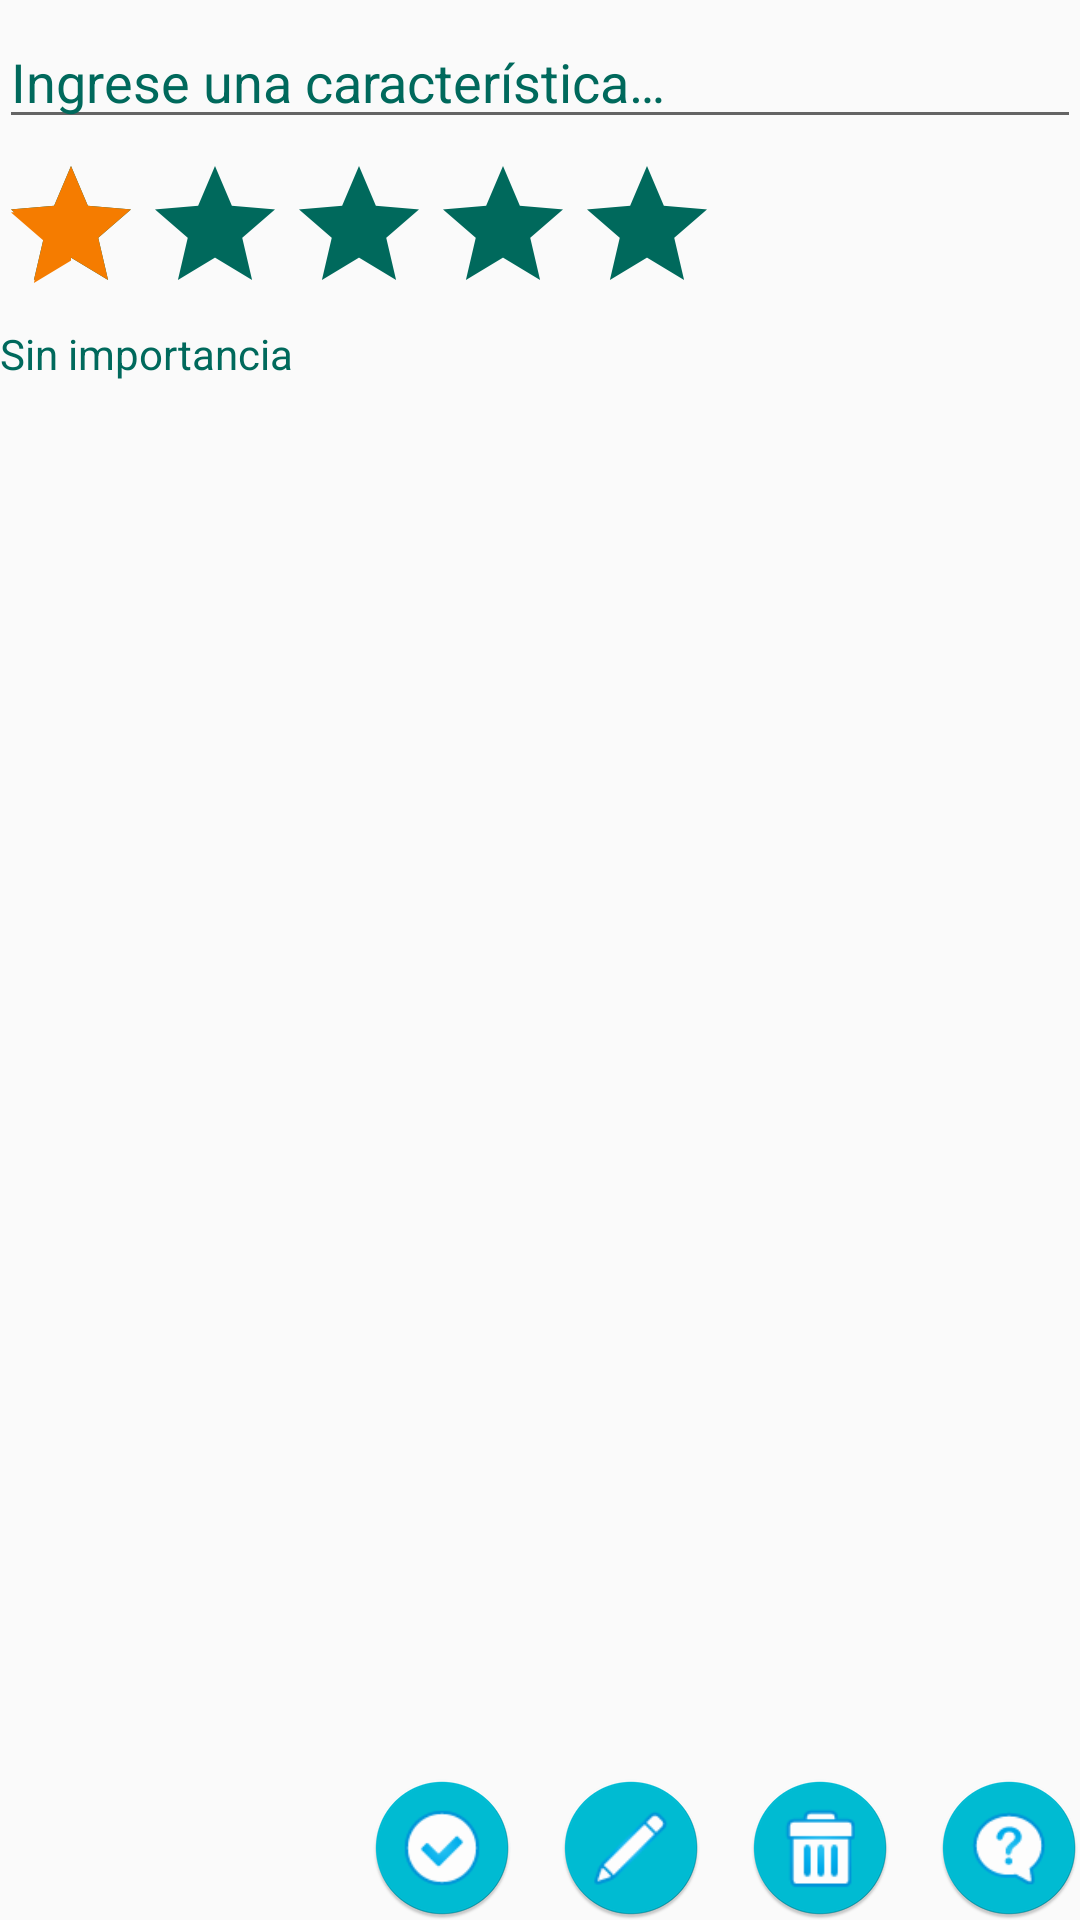

Icon bounding boxes for this 1080*1920 phone screenshot, format (x1, y1, x2, y2):
ayuda: (942, 1781, 1076, 1917)
delete: (753, 1781, 887, 1917)
edit: (564, 1781, 698, 1917)
ok: (375, 1781, 509, 1917)
